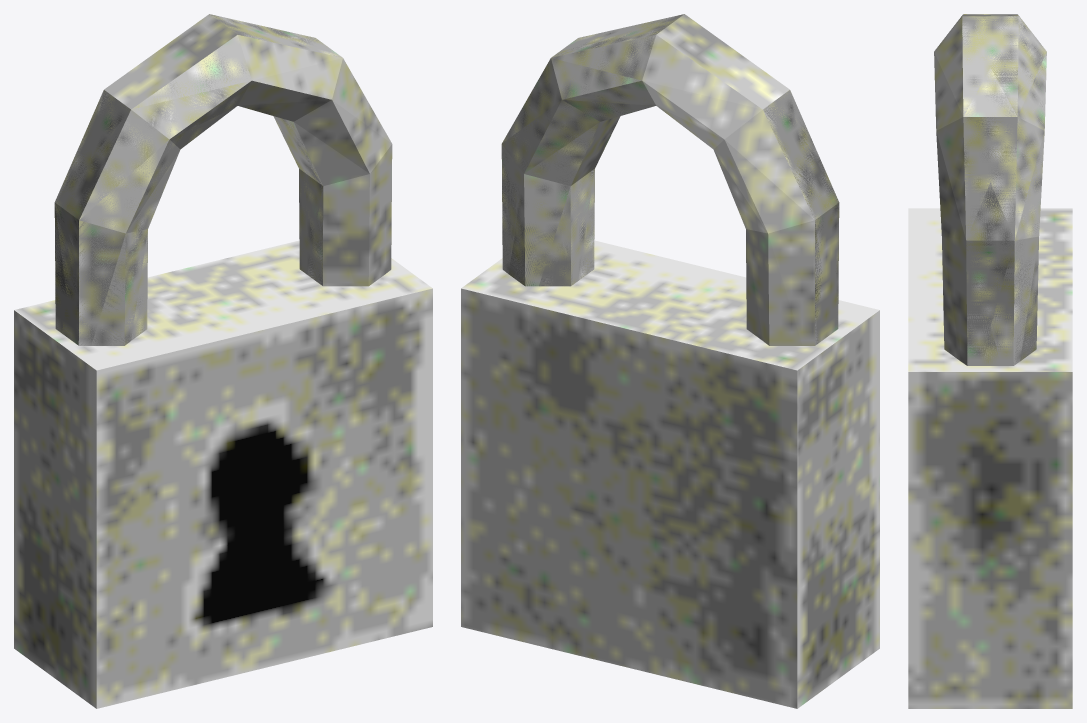
File: Locker01.obj
3 views of the same model, side by side, from view 1: azimuth 30°, elevation 25°; view 2: azimuth 150°, elevation 25°; view 3: azimuth 270°, elevation 25° (orthographic).
Visible parts, largest first — view 1: Locker01_Cylinder; view 2: Locker01_Cylinder; view 3: Locker01_Cylinder.
Boxes of the visible parts, x1=… form: Locker01_Cylinder: x1=14, y1=14, x2=432, y2=708; Locker01_Cylinder: x1=461, y1=14, x2=879, y2=708; Locker01_Cylinder: x1=908, y1=14, x2=1072, y2=708.
Size of the model in its own units: 0.4276 by 0.745 by 0.1819.
